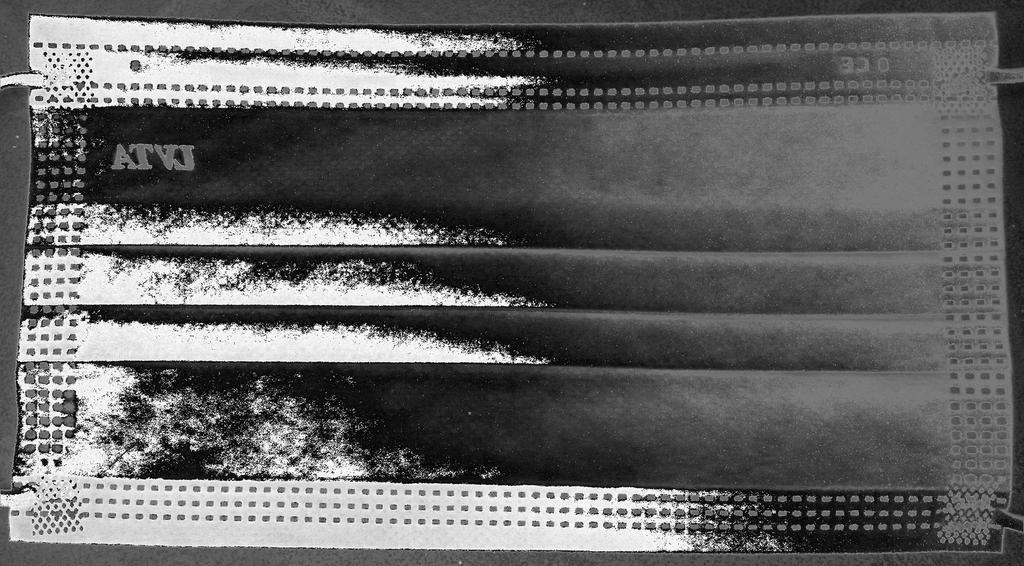High GSM: (5, 15, 547, 489)
